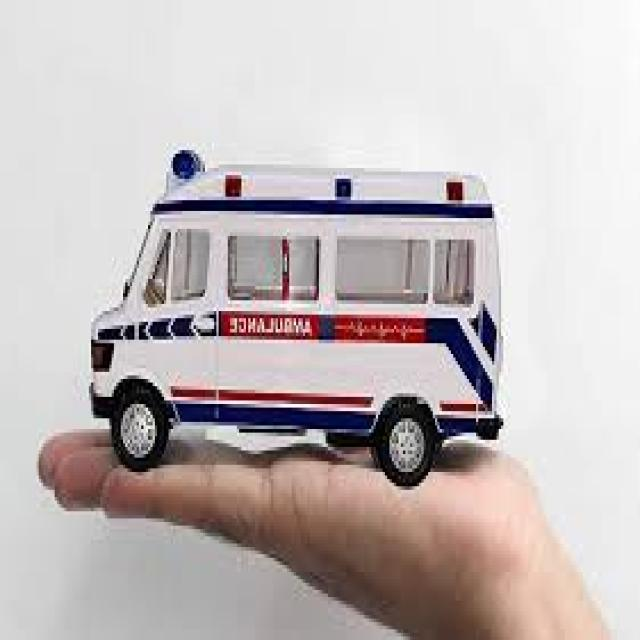ambulance: (62, 134, 523, 454)
